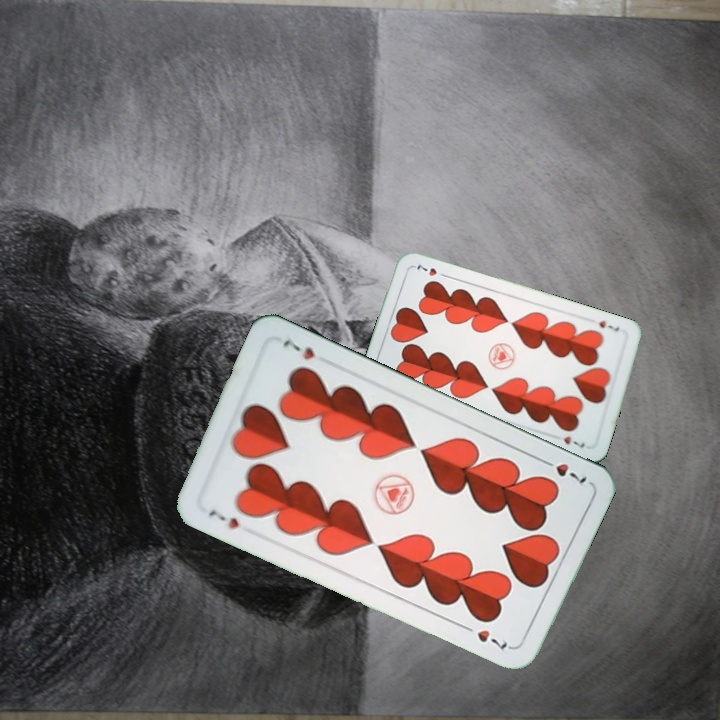H7: (536, 454, 590, 490), (204, 505, 241, 532), (595, 316, 622, 336)
